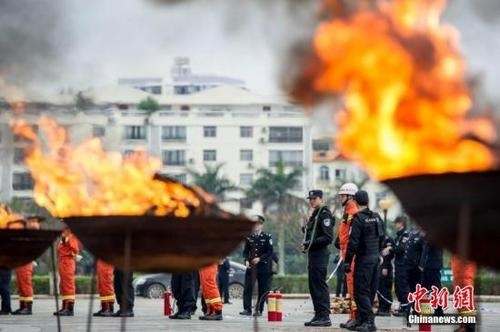fire: (309, 1, 498, 173), (6, 103, 206, 219)
